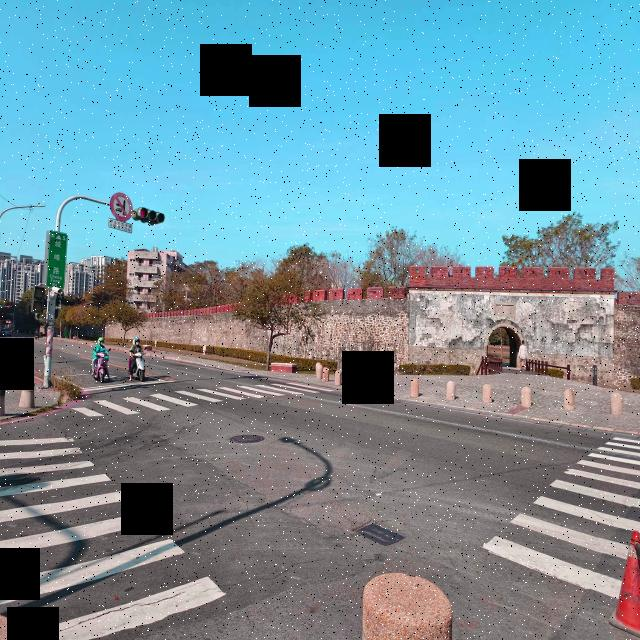zebra_crossing: (0, 437, 222, 640), (487, 442, 640, 601), (77, 384, 319, 418), (91, 337, 109, 377), (518, 340, 528, 370)
